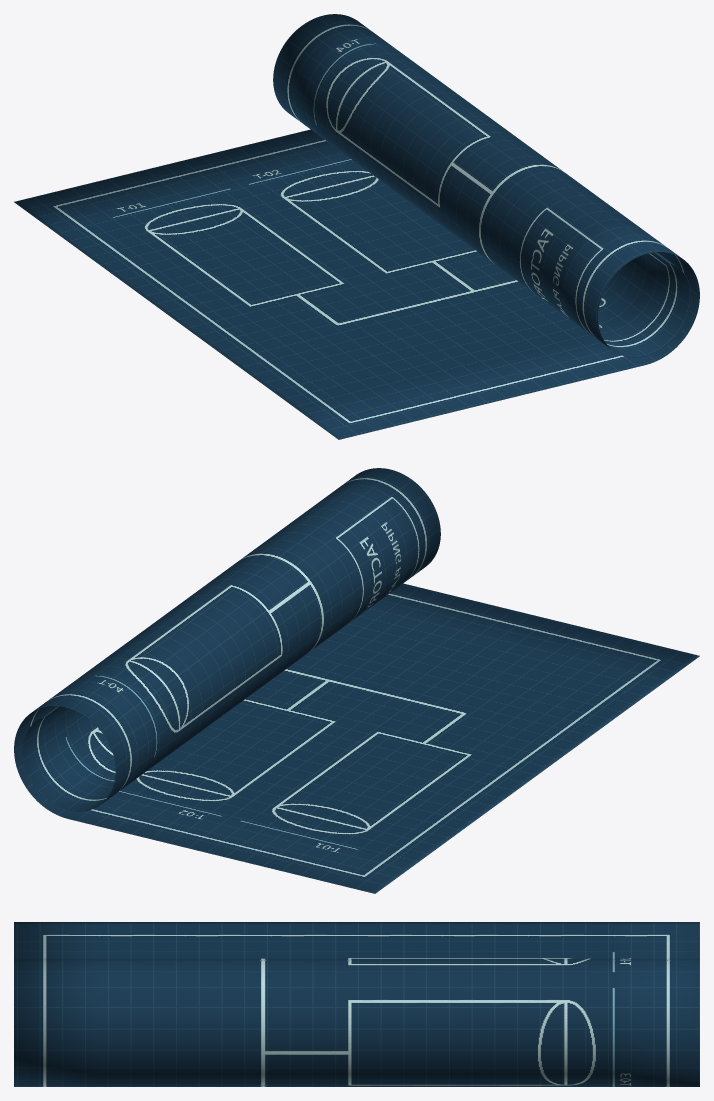
File: obj-blueprint.glb
3 views of the same model, one above another, from view 1: azimuth 30°, elevation 25°; view 2: azimuth 150°, elevation 25°; view 3: azimuth 270°, elevation 25° (orthographic). The views are drawn at different scales.
Parts seen in each view (by area): view 1: blueprint; view 2: blueprint; view 3: blueprint.
Boxes of the visible parts, x1=… form: blueprint: x1=14, y1=14, x2=699, y2=439; blueprint: x1=14, y1=468, x2=699, y2=893; blueprint: x1=14, y1=922, x2=699, y2=1086.
Size of the model in its own units: 0.2697 by 0.0794 by 0.42.
1 material, 1 textured.
